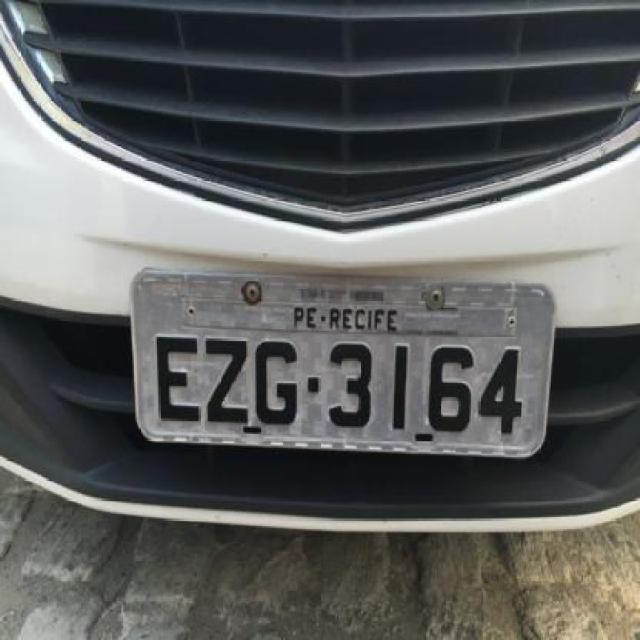old_plate: (124, 259, 560, 468)
